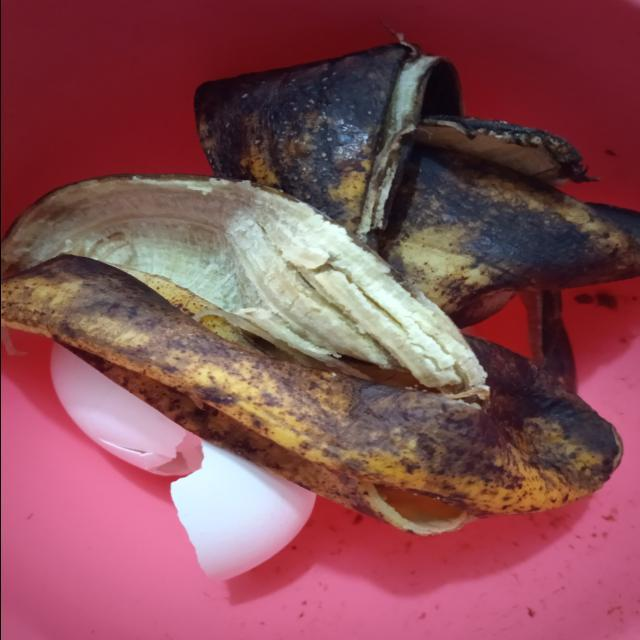egg shell: (170, 432, 316, 579), (49, 350, 198, 480)
